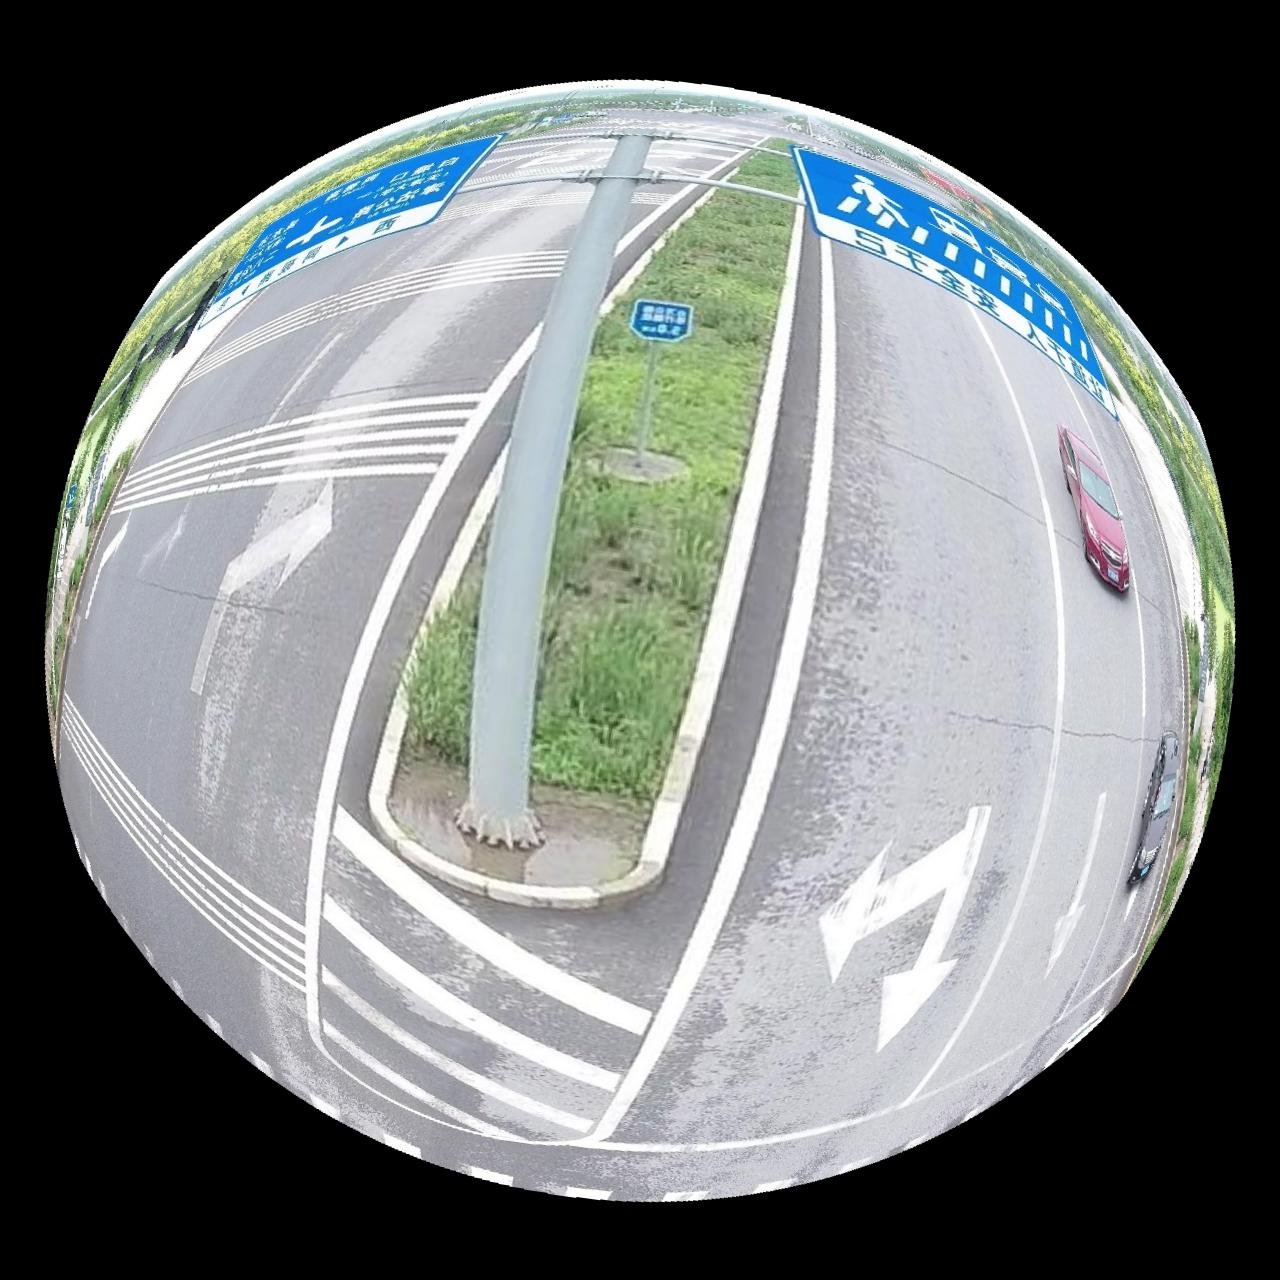cars: (1060, 423, 1131, 593), (1130, 733, 1181, 885)
